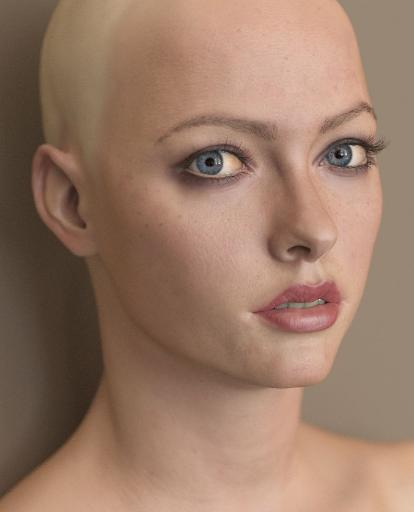left_eye: (316, 138, 374, 177)
left_lip_corner: (331, 292, 353, 312)
right_eye: (175, 143, 255, 186)
right_lip_corner: (247, 304, 267, 325)
